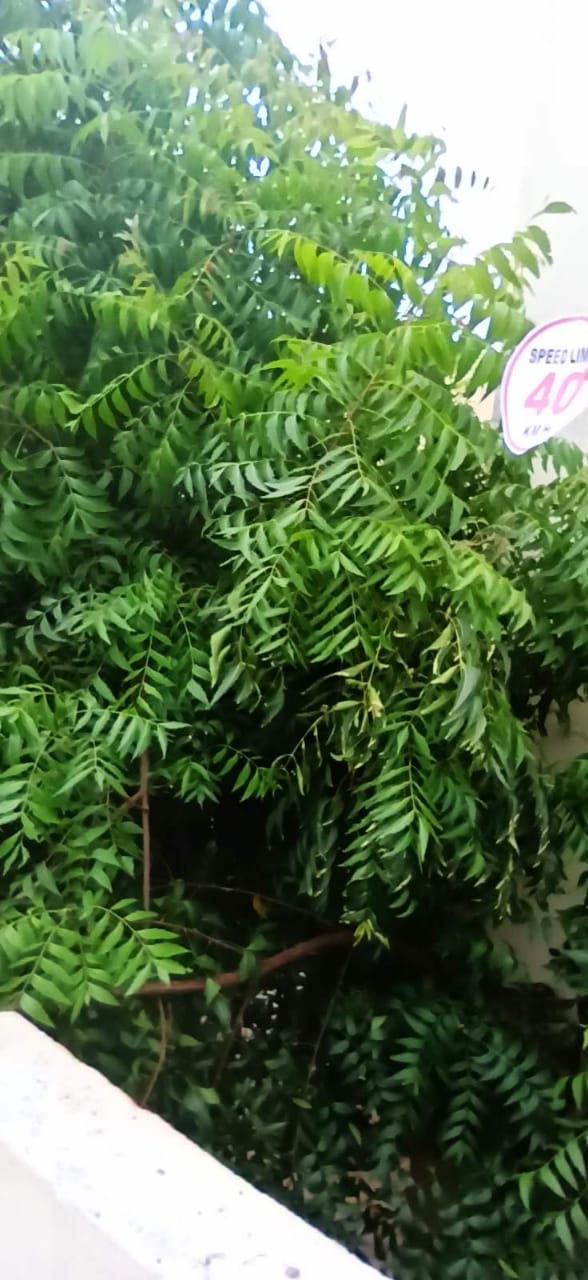SPEED LIMIT (40 KM/H): (481, 299, 588, 441)
